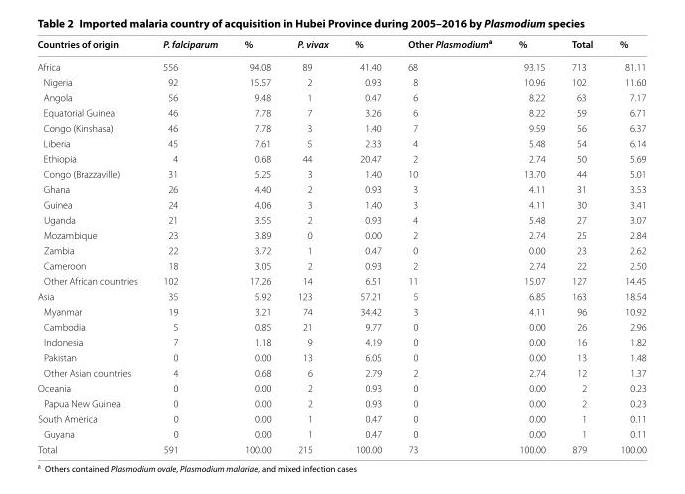table: (36, 36, 645, 454)
table column: (36, 36, 149, 454), (394, 36, 504, 454), (149, 36, 230, 454), (283, 36, 340, 454), (340, 36, 394, 454), (230, 36, 283, 454), (504, 36, 557, 454), (557, 36, 605, 454), (605, 36, 645, 454)
table column header: (36, 36, 645, 55)
table row: (36, 36, 645, 55), (36, 55, 645, 74), (36, 104, 645, 120), (36, 165, 645, 181), (36, 211, 645, 227), (36, 257, 645, 273), (36, 318, 645, 334), (36, 364, 645, 380), (36, 425, 645, 441), (36, 74, 645, 89), (36, 89, 645, 104), (36, 120, 645, 135), (36, 135, 645, 150), (36, 150, 645, 165), (36, 181, 645, 196), (36, 196, 645, 211), (36, 227, 645, 242), (36, 242, 645, 257), (36, 273, 645, 288), (36, 288, 645, 303), (36, 303, 645, 318), (36, 334, 645, 349), (36, 349, 645, 364), (36, 380, 645, 395), (36, 395, 645, 410), (36, 410, 645, 425), (36, 441, 645, 454)
